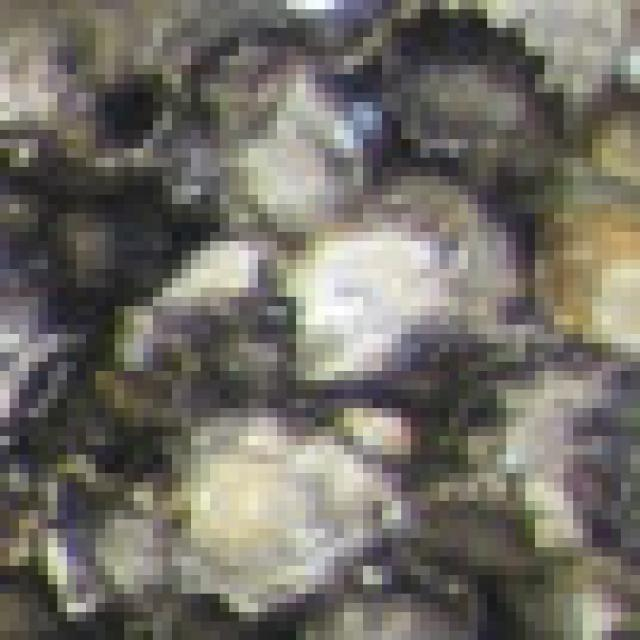Oyster-Closed: (155, 241, 300, 338), (311, 563, 472, 640), (277, 0, 423, 68), (0, 334, 77, 439)
Oyster-Indeterminate: (402, 340, 640, 579), (168, 410, 404, 620), (291, 183, 518, 373), (446, 0, 640, 136), (225, 85, 378, 239), (531, 181, 640, 352), (397, 54, 546, 169)
